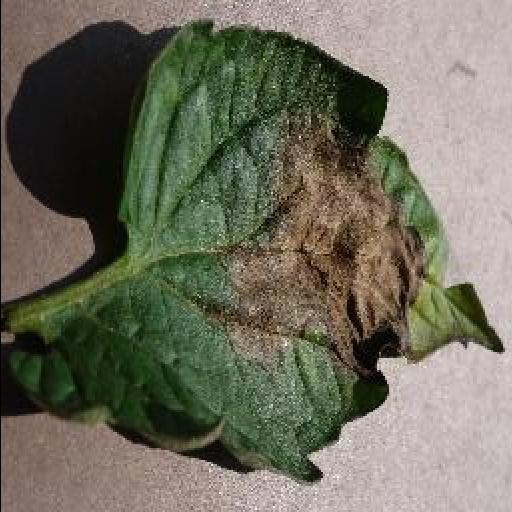disease_tomato: (0, 19, 504, 485)
